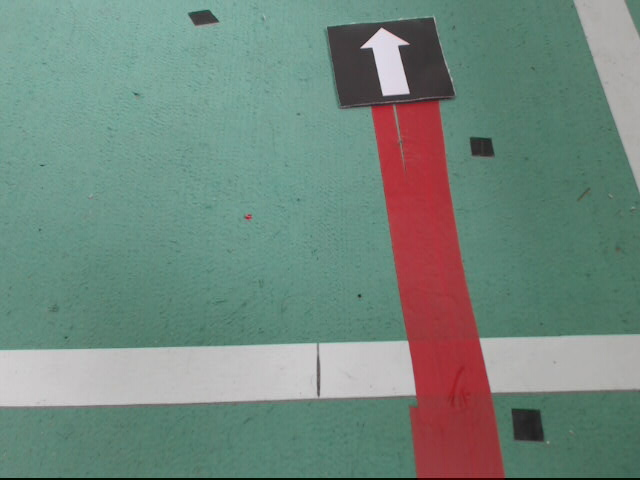straight: (327, 16, 455, 110)
